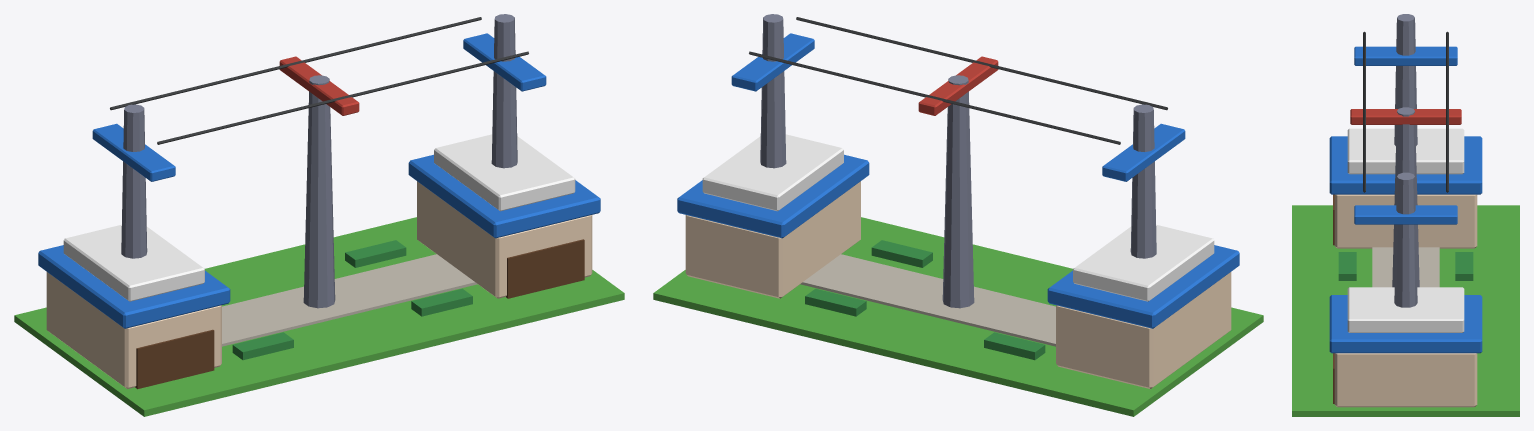
The model's file is sky-ride.glb.
3 renders of one model, left to right at view 1: azimuth 30°, elevation 25°; view 2: azimuth 150°, elevation 25°; view 3: azimuth 270°, elevation 25°, orthographic. The views are drawn at different scales.
Parts seen in each view (by area): view 1: model; view 2: model; view 3: model.
Boxes of the visible parts, left/top/right/bottom form: model: left=14, top=14, right=624, bottom=416; model: left=653, top=14, right=1263, bottom=416; model: left=1292, top=14, right=1519, bottom=416.
Size of the model in its own units: 3.76 by 1.85 by 1.76.
Materials: 1 (1 with a texture image).
